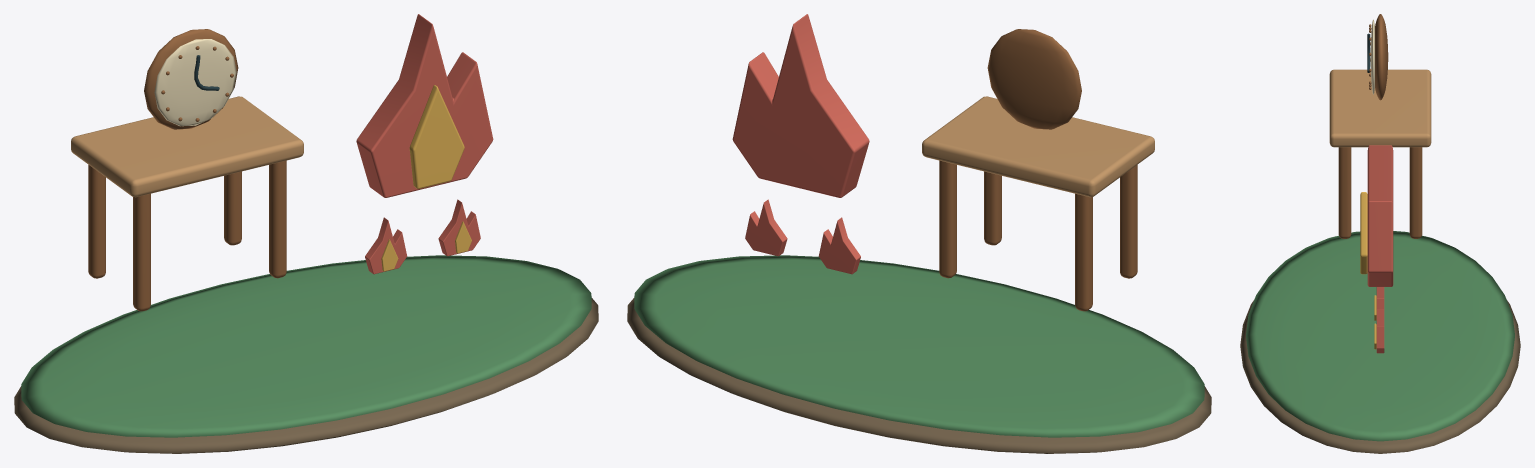
File: complete-first-clock-appointment.glb
3 views of the same model, side by side, from view 1: azimuth 30°, elevation 25°; view 2: azimuth 150°, elevation 25°; view 3: azimuth 270°, elevation 25° (orthographic). The views are drawn at different scales.
Visible parts, largest first — view 1: complete-first-clock-appointment_surface_01, complete-first-clock-appointment_surface_04, complete-first-clock-appointment_surface_02, complete-first-clock-appointment_surface_00, complete-first-clock-appointment_surface_03, complete-first-clock-appointment_surface_06, complete-first-clock-appointment_surface_05; view 2: complete-first-clock-appointment_surface_01, complete-first-clock-appointment_surface_04, complete-first-clock-appointment_surface_03, complete-first-clock-appointment_surface_02, complete-first-clock-appointment_surface_00; view 3: complete-first-clock-appointment_surface_01, complete-first-clock-appointment_surface_02, complete-first-clock-appointment_surface_00, complete-first-clock-appointment_surface_04, complete-first-clock-appointment_surface_03, complete-first-clock-appointment_surface_05, complete-first-clock-appointment_surface_06.
Part boxes in pixels (x1,y1,x2,y2): complete-first-clock-appointment_surface_01: (21,255,591,437); complete-first-clock-appointment_surface_04: (356,14,493,274); complete-first-clock-appointment_surface_02: (71,96,303,197); complete-first-clock-appointment_surface_00: (14,298,598,453); complete-first-clock-appointment_surface_03: (88,29,286,311); complete-first-clock-appointment_surface_06: (154,39,236,126); complete-first-clock-appointment_surface_05: (381,85,471,271); complete-first-clock-appointment_surface_01: (634,255,1204,437); complete-first-clock-appointment_surface_04: (732,14,869,274); complete-first-clock-appointment_surface_03: (939,29,1137,311); complete-first-clock-appointment_surface_02: (922,96,1154,197); complete-first-clock-appointment_surface_00: (627,298,1211,453); complete-first-clock-appointment_surface_01: (1246,231,1514,441); complete-first-clock-appointment_surface_02: (1329,69,1431,147); complete-first-clock-appointment_surface_00: (1240,300,1520,453); complete-first-clock-appointment_surface_04: (1367,145,1393,353); complete-first-clock-appointment_surface_03: (1338,14,1422,238); complete-first-clock-appointment_surface_05: (1360,192,1376,349); complete-first-clock-appointment_surface_06: (1370,19,1374,94).
Bounding box in the file's own units: 4.56 × 2.92 × 2.5.
